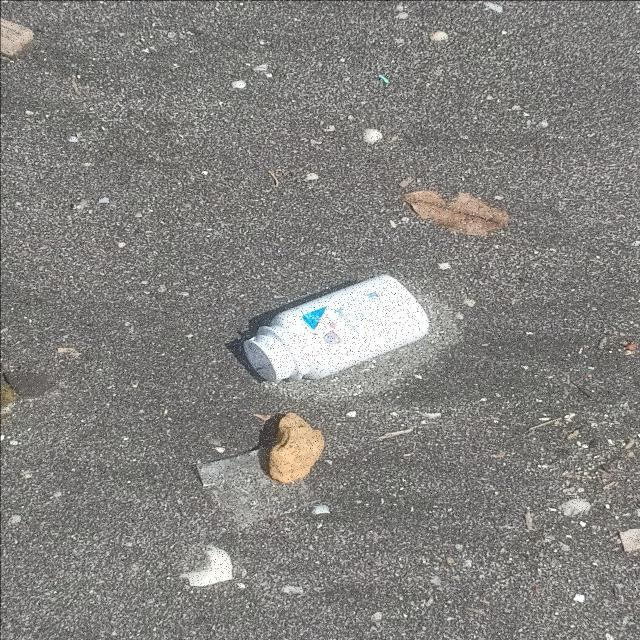plastic_waste: (243, 273, 430, 384)
